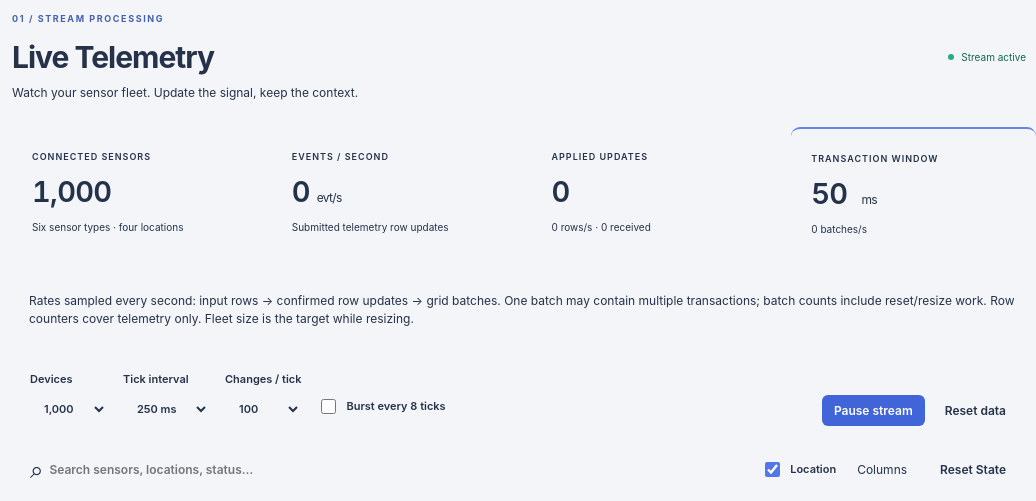
Live Telemetry with AG Grid async transaction semantics › Reset State clears the input and quickFilterText immediately, and a stale pending debounce does not resurrect the old text
Click the button "Pause stream": coordinates (873, 410) [822, 395, 925, 426]
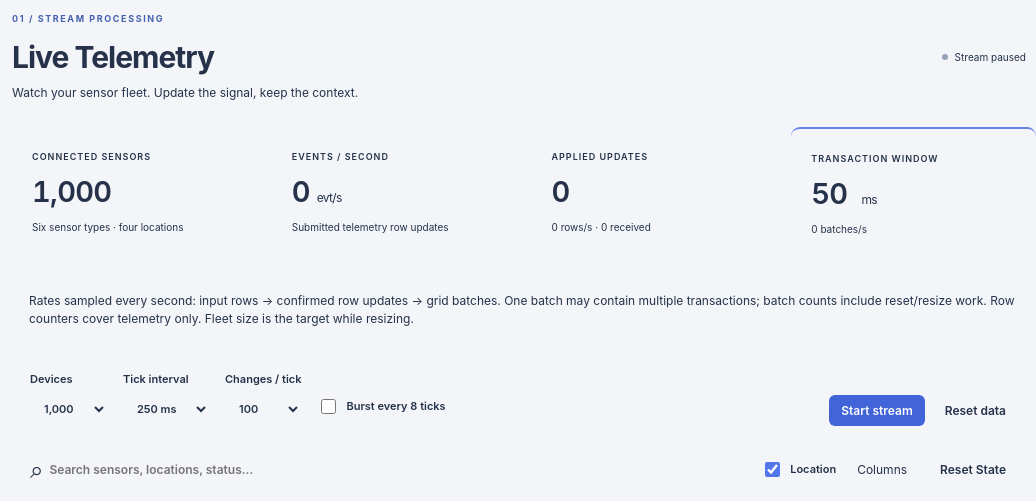
In the field named "Search live": coordinates (177, 469) [50, 454, 304, 484], type "device-00001"
Wait 200 ms
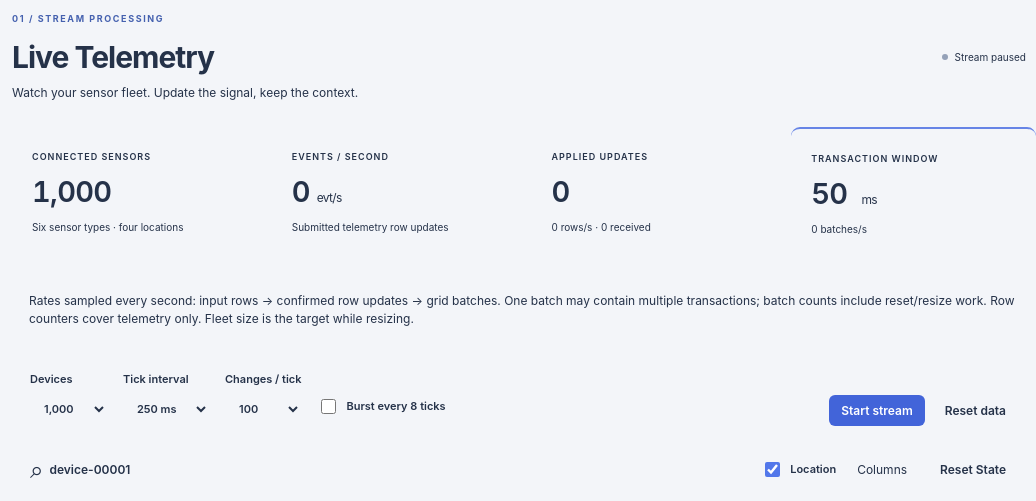
Click the button "Reset State": coordinates (973, 469) [928, 454, 1018, 485]
Wait 300 ms
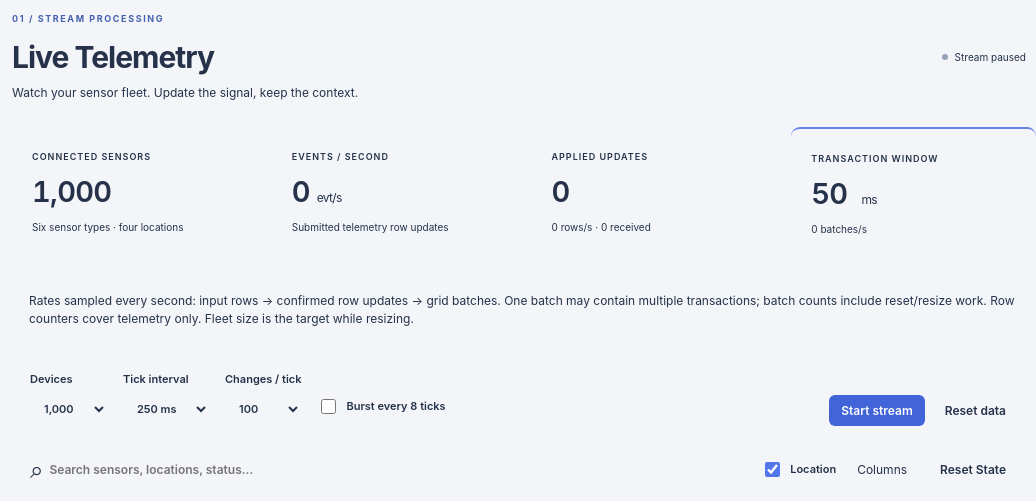
Now the field named "Search live" is empty, box [50, 454, 304, 484]
